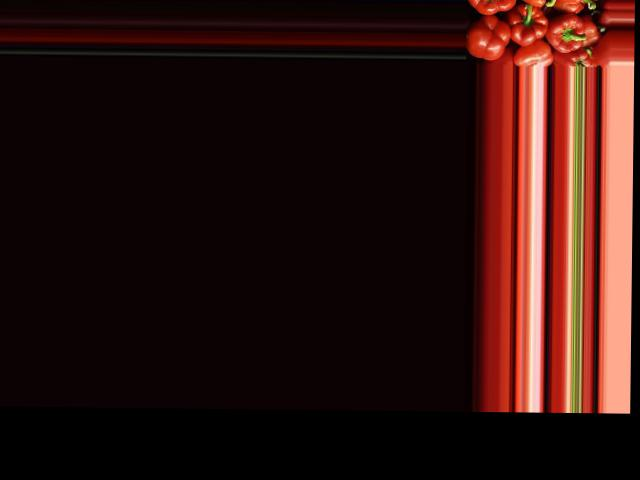bell_pepper: (512, 42, 552, 65)
